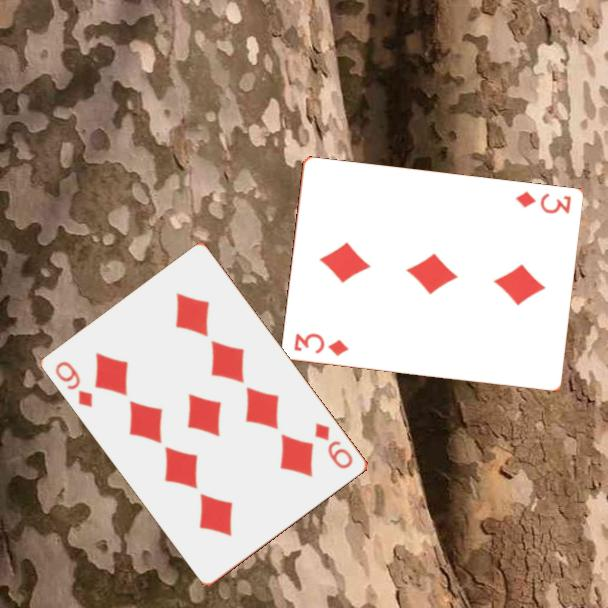d03: (512, 188, 574, 217), (290, 330, 351, 359)
d09: (52, 358, 96, 411), (312, 420, 356, 472)
